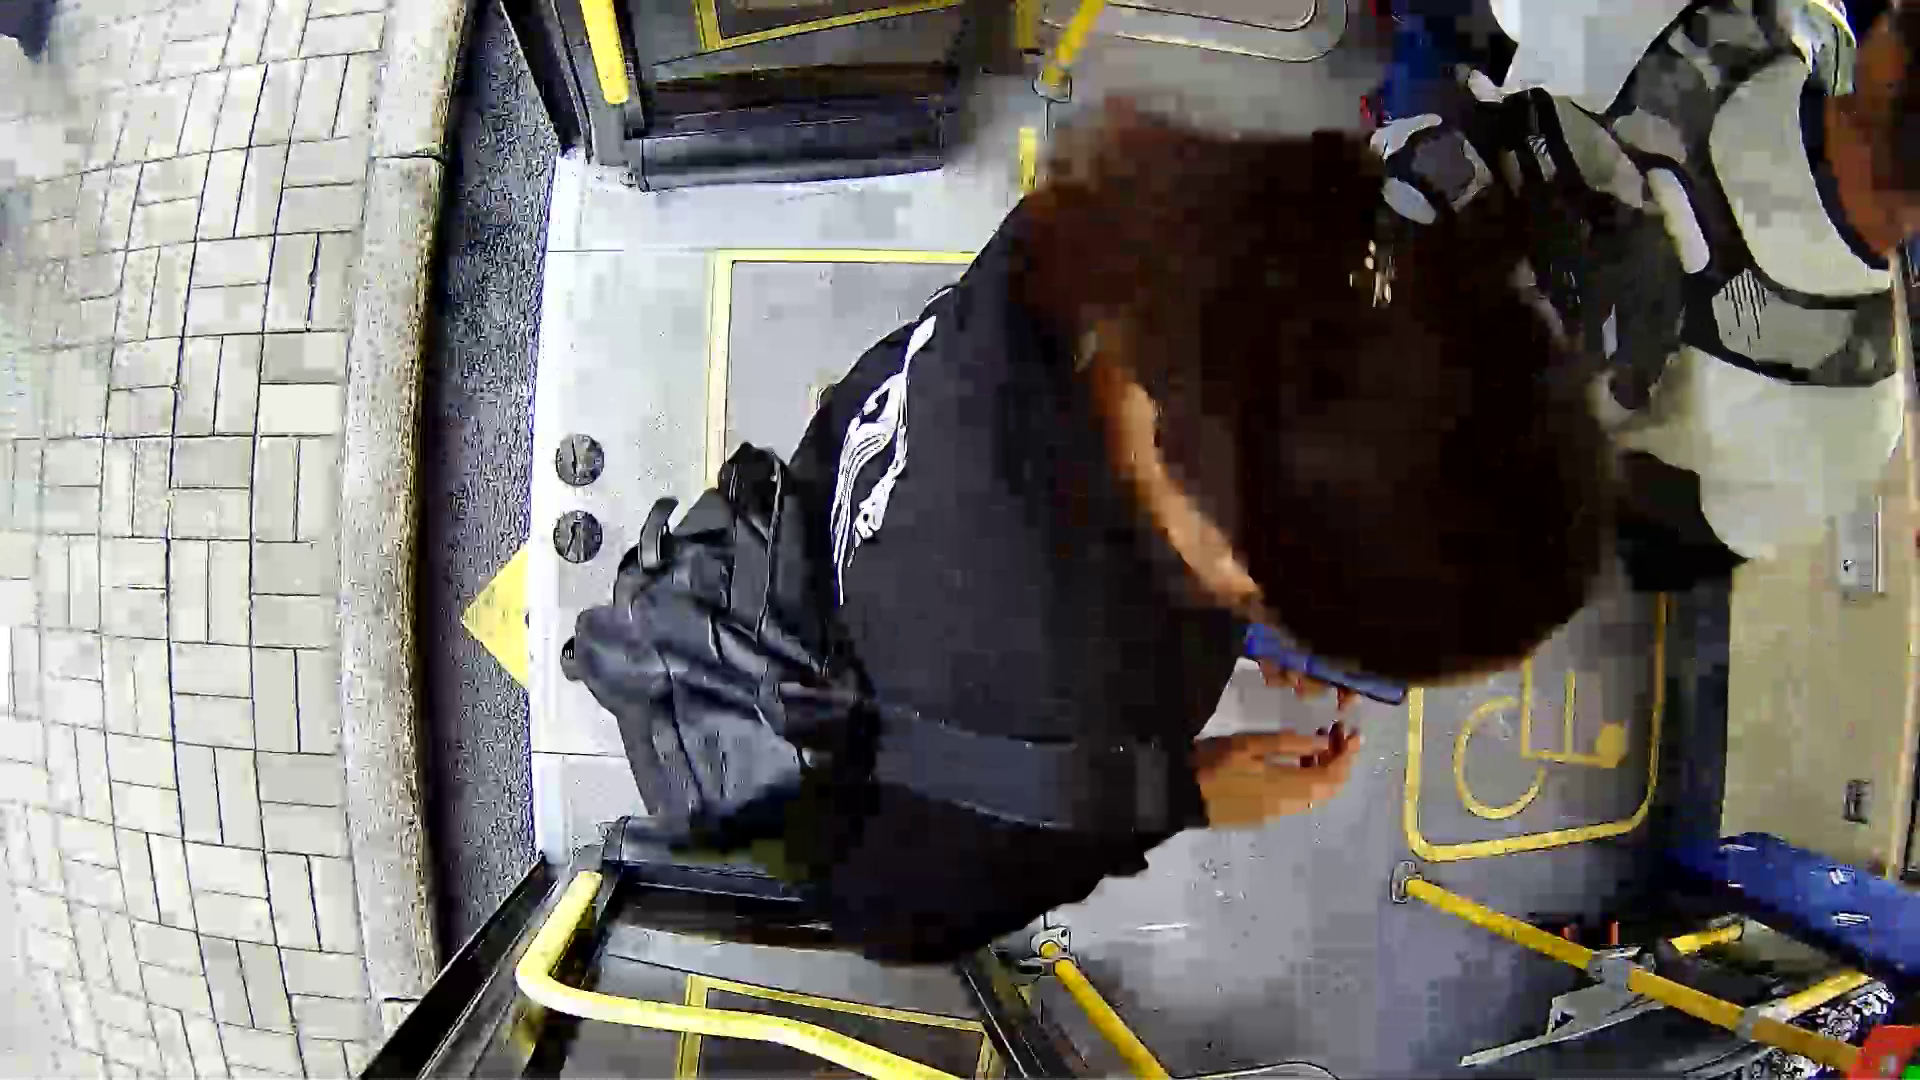person: (713, 170, 1582, 861)
